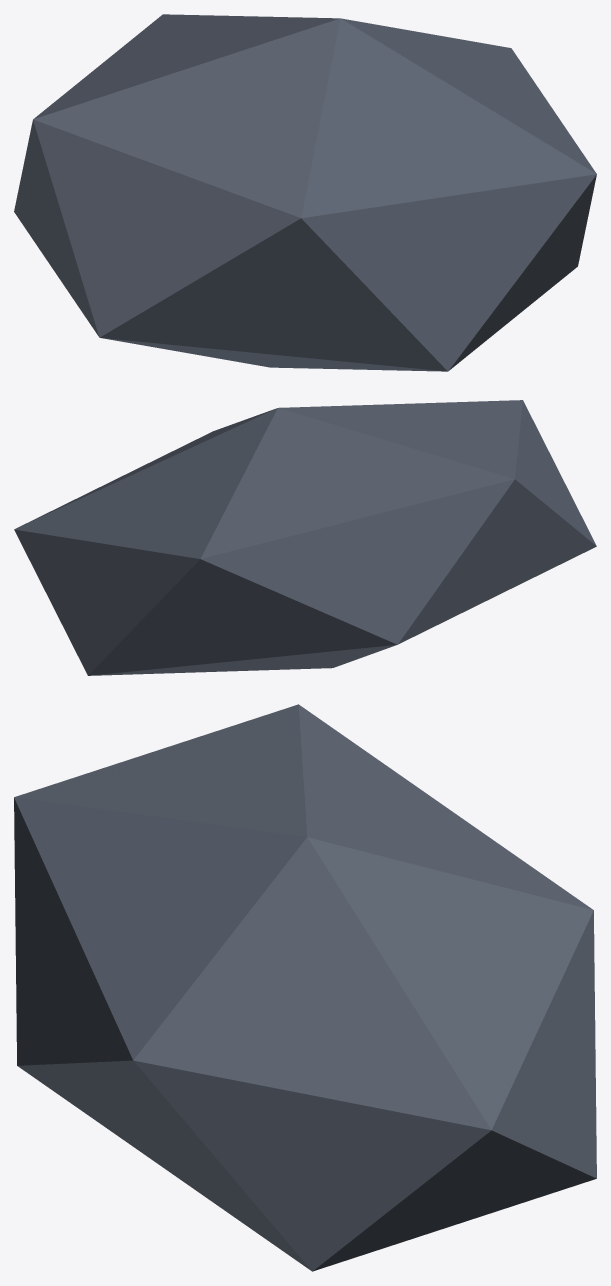
Rendered from EXT_SouthCliff_03_Shard_0.glb.
The picture shows the model from 3 angles, top to bottom: view 1: azimuth 30°, elevation 25°; view 2: azimuth 150°, elevation 25°; view 3: azimuth 270°, elevation 25°; orthographic projection. The views are drawn at different scales.
Parts seen in each view (by area): view 1: EXT_SouthCliff_03_Shard_0; view 2: EXT_SouthCliff_03_Shard_0; view 3: EXT_SouthCliff_03_Shard_0.
Part boxes in pixels (x1=…): EXT_SouthCliff_03_Shard_0: x1=14, y1=14, x2=596, y2=371; EXT_SouthCliff_03_Shard_0: x1=14, y1=400, x2=596, y2=675; EXT_SouthCliff_03_Shard_0: x1=14, y1=704, x2=596, y2=1271.
Bounding box in the file's own units: 1.91 × 1.01 × 1.59.
